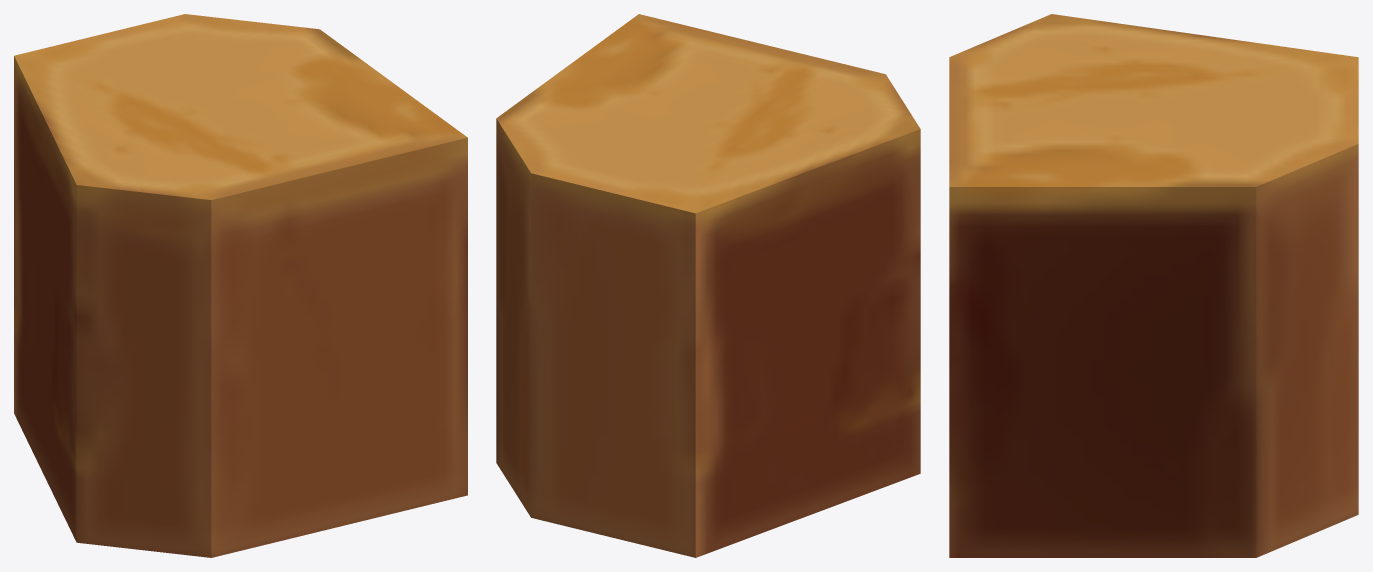
The model's file is Flat Rock_01.fbx.
3 views of the same model, side by side, from view 1: azimuth 30°, elevation 25°; view 2: azimuth 150°, elevation 25°; view 3: azimuth 270°, elevation 25° (orthographic). The views are drawn at different scales.
Parts seen in each view (by area): view 1: Flat Rock_01; view 2: Flat Rock_01; view 3: Flat Rock_01.
Part boxes in pixels (x1,y1,x2,y2): Flat Rock_01: (14, 14, 467, 557); Flat Rock_01: (496, 14, 920, 557); Flat Rock_01: (949, 14, 1358, 557).
Size of the model in its own units: 0.04 by 0.04 by 0.04.
